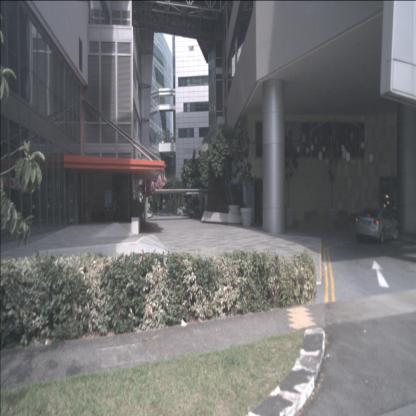human-pedestrian-adult: (113, 196, 118, 222)
vehicle-car: (355, 207, 399, 244), (176, 206, 193, 216)
